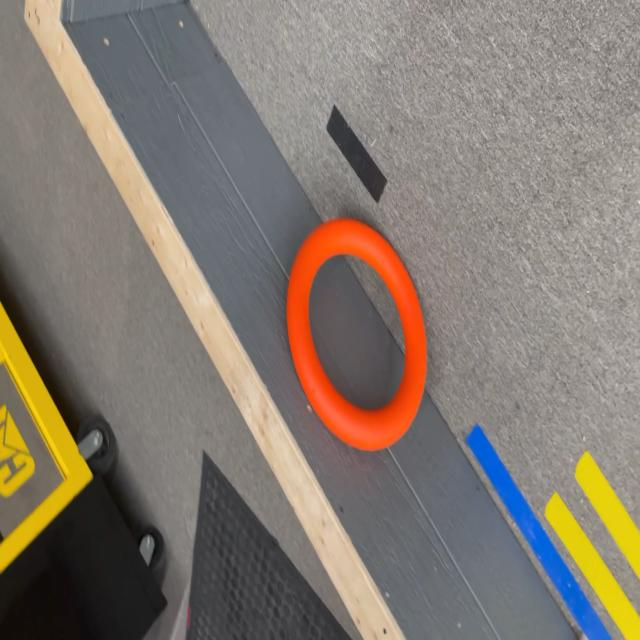note: (288, 215, 427, 448)
